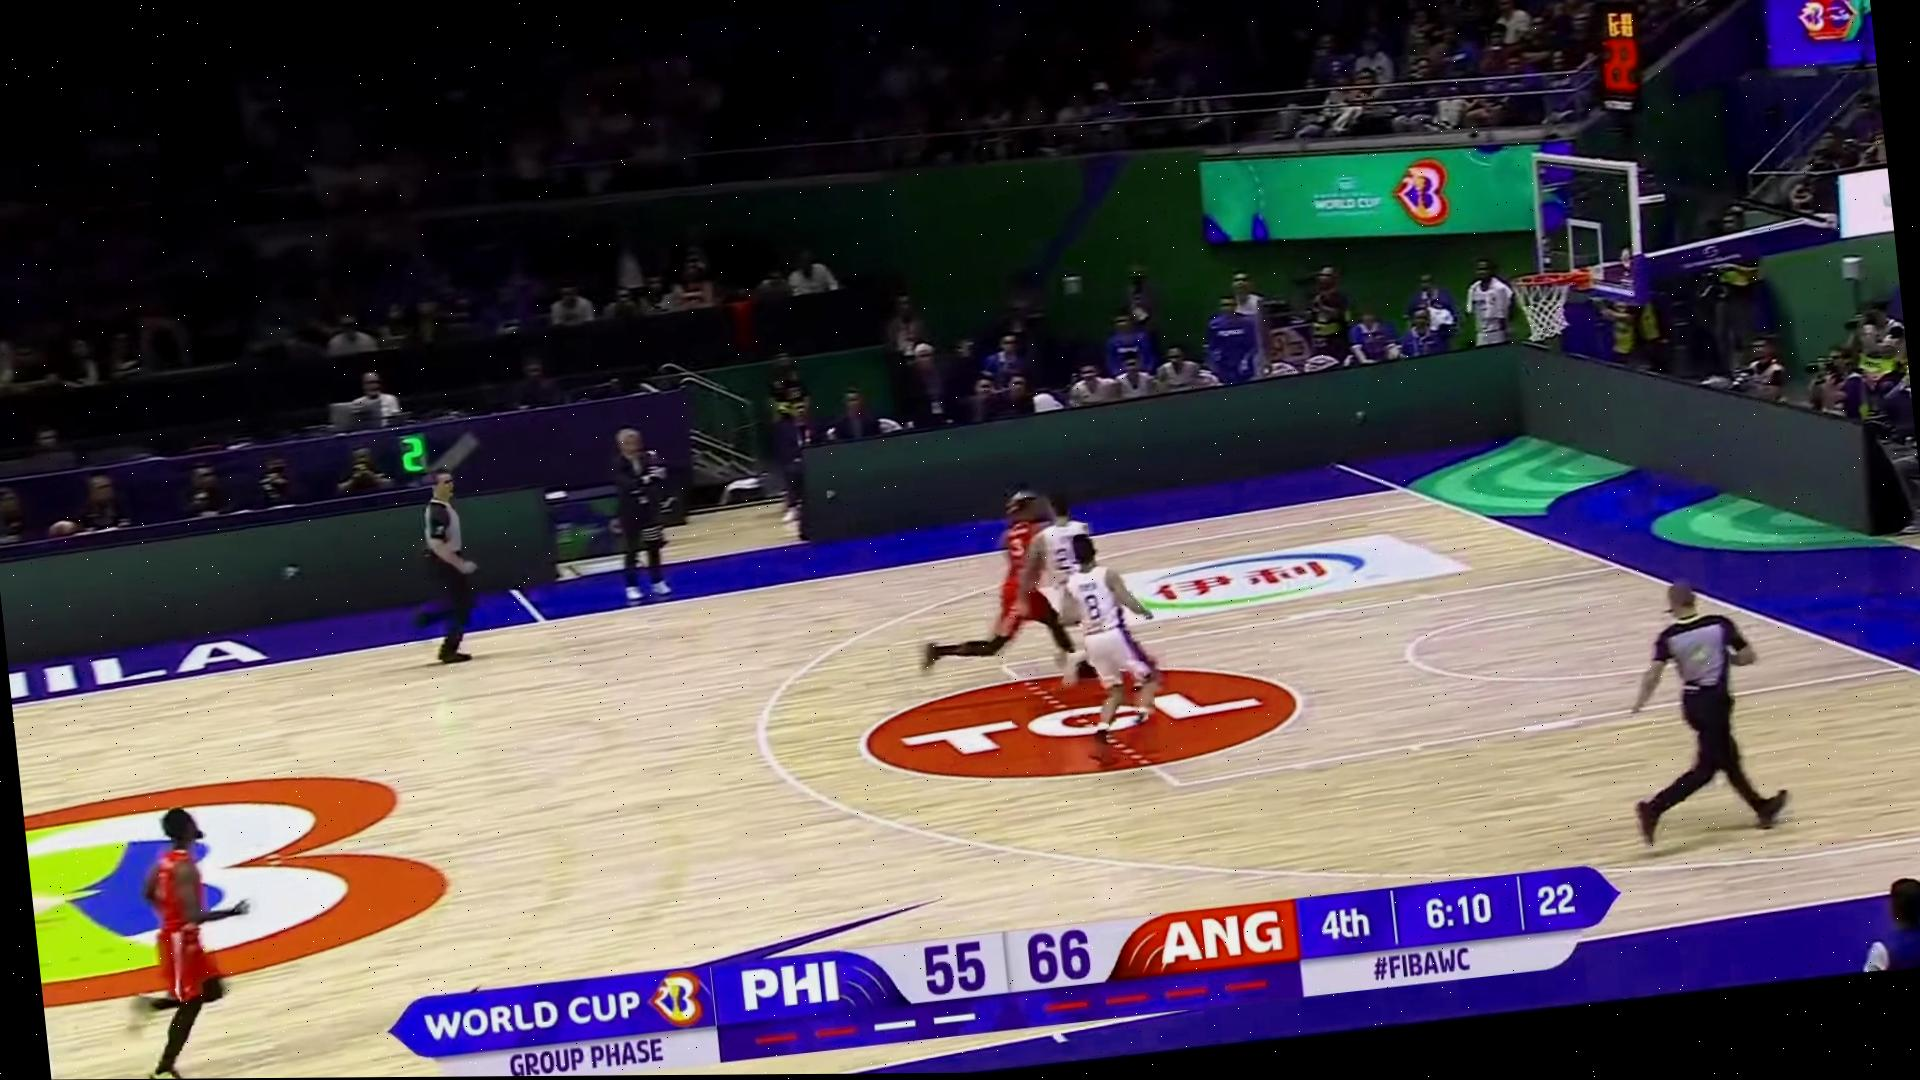no_foul: (926, 459, 1180, 773)
